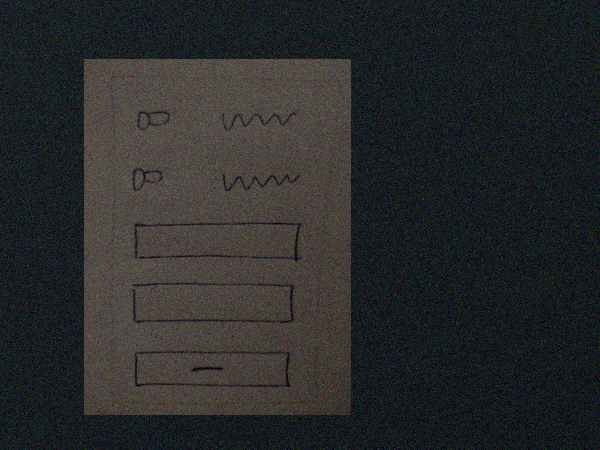button: (131, 346, 293, 392)
switch: (130, 106, 176, 139), (126, 164, 172, 197)
text: (220, 167, 304, 194), (215, 107, 300, 133)
text_input: (131, 218, 305, 267), (126, 279, 300, 328)
